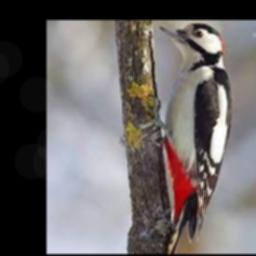Woodpecker: (145, 23, 233, 254)
